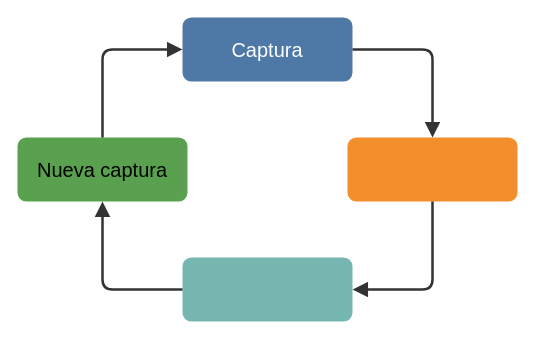
Image size: 534x338. Some labels were removed from this diagram. Each missing label, with the centre of its shape:
"Clic" goes at point 267,289.
"Decisión" goes at point 432,169.
